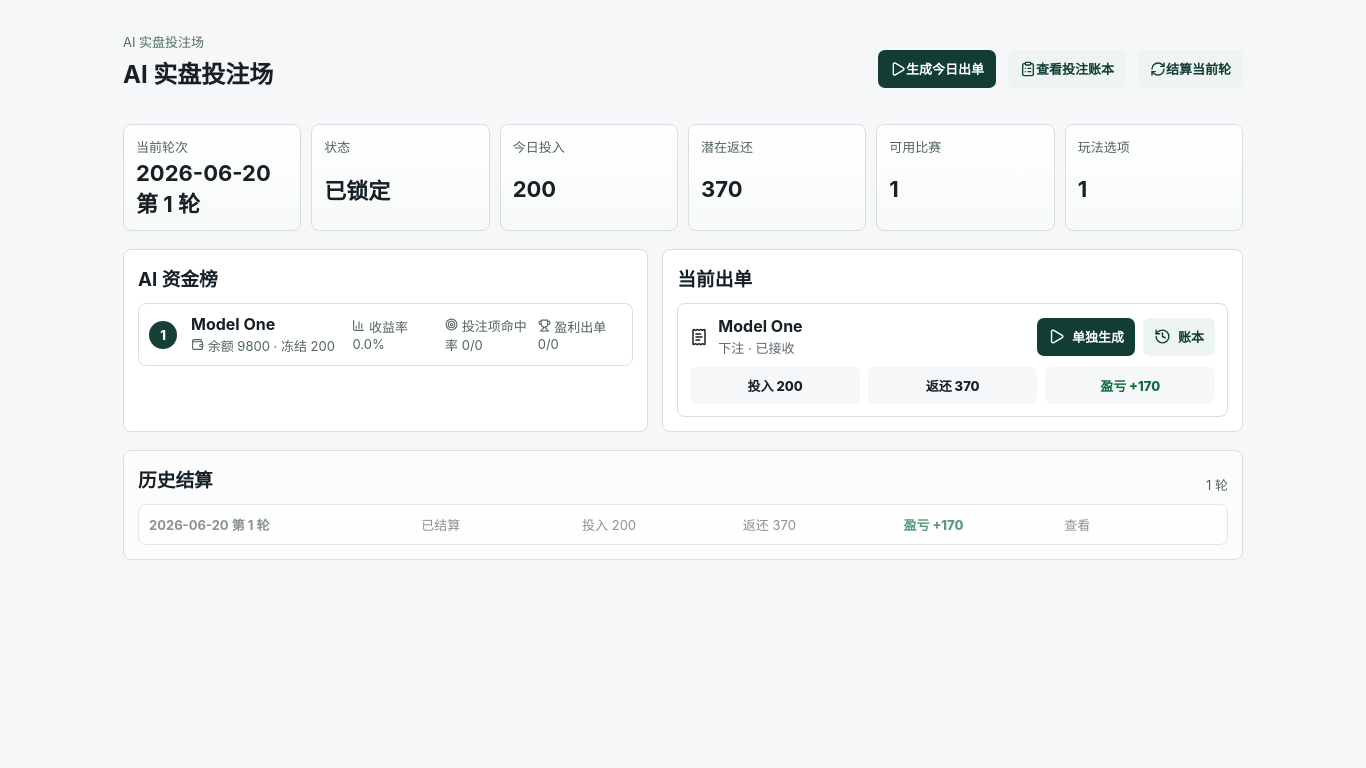
it: BettingArenaPage › marks unsettled betting ledger rows without showing zero settlement values
The image size is (1366, 768).
Click the button "查看投注账本" at (1067, 69), box x1=1008 y1=50 x2=1126 y2=88
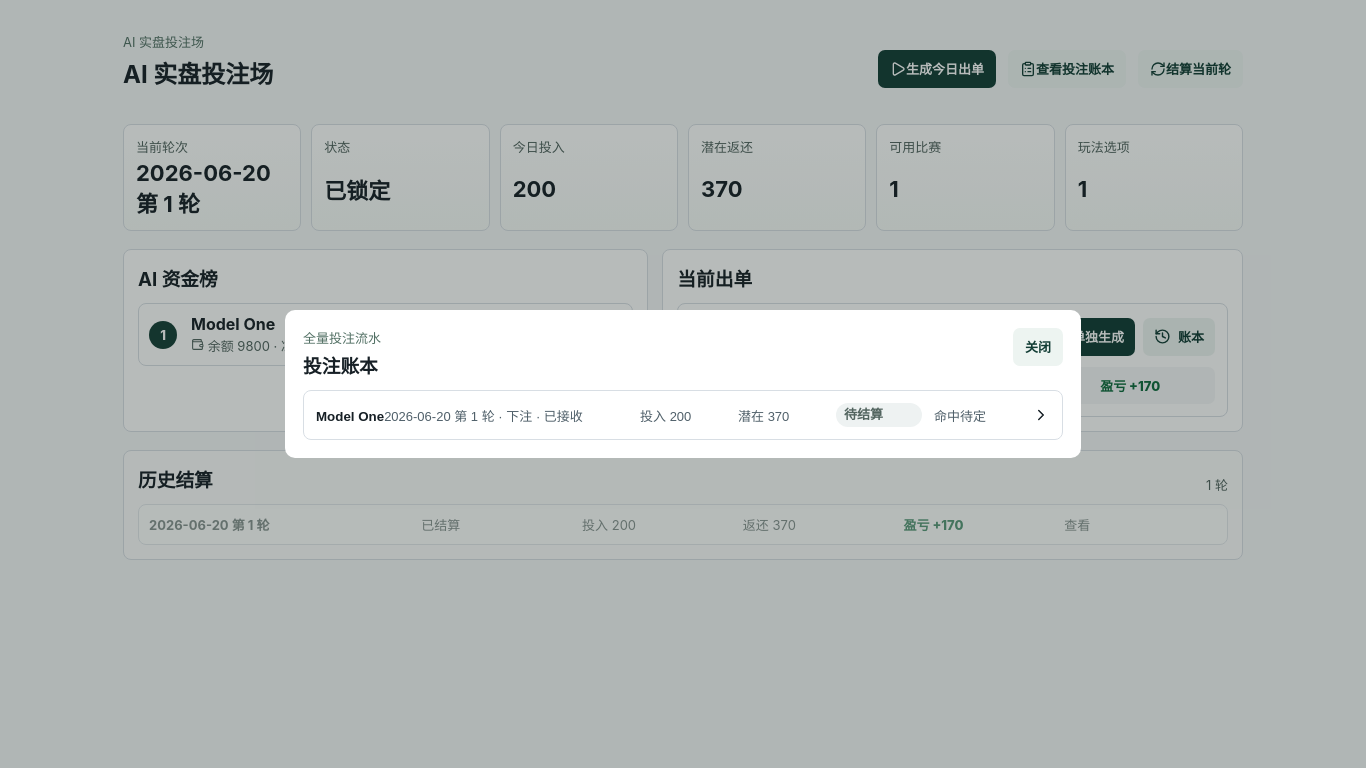
Expected: the text "待结算" is shown, x1=836 y1=403 x2=922 y2=427
Expected: the text "潜在 370" is shown, x1=738 y1=408 x2=789 y2=424
